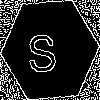S: (25, 25, 59, 74)
